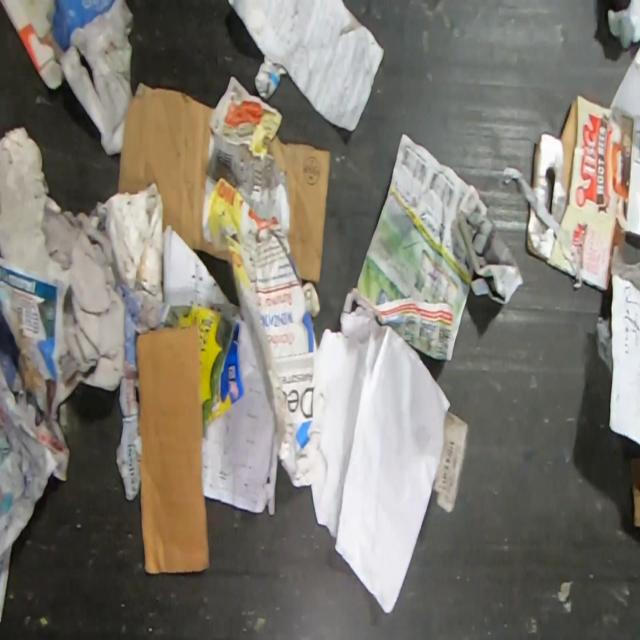cardboard: (117, 80, 332, 284), (531, 92, 640, 294), (134, 324, 211, 575), (525, 203, 576, 279), (630, 438, 640, 525)
soft_plastic: (608, 249, 640, 291), (594, 314, 613, 375)
